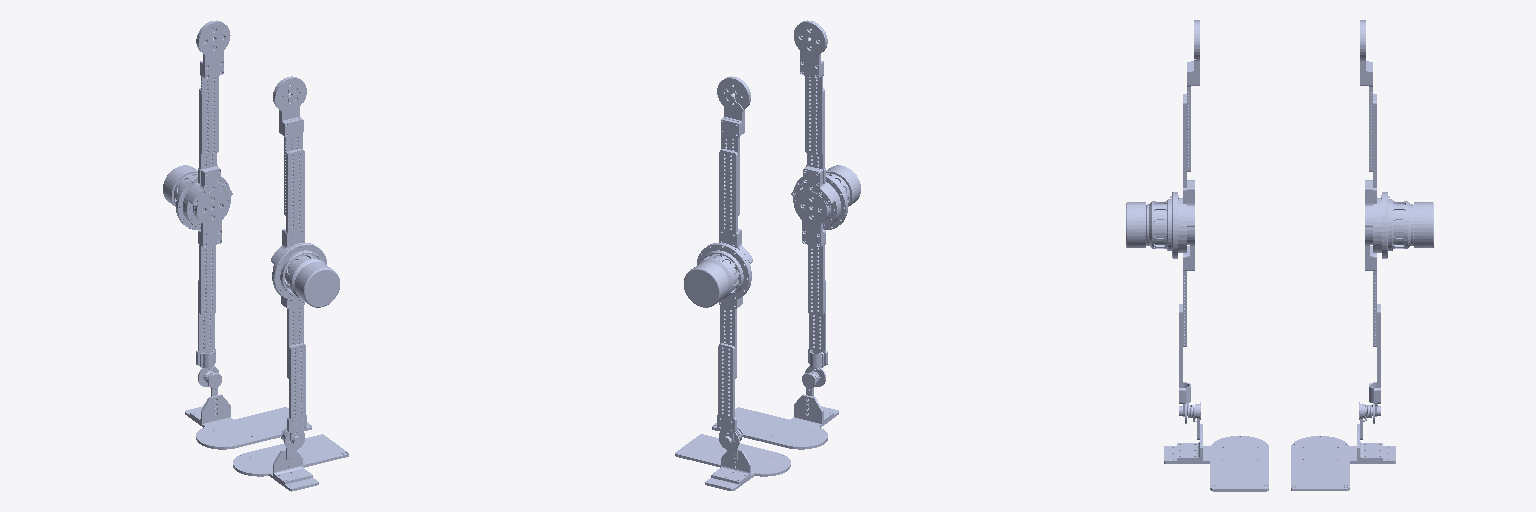
The robot description file, URDF, robot "exo_stand":
<?xml version="1.0" encoding="utf-8"?>
<!-- This URDF was automatically created by SolidWorks to URDF Exporter! Originally created by [author] ([email redacted]) 
     Commit Version: 1.6.0-4-g7f85cfe  Build Version: 1.6.7995.38578
     For more information, please see http://wiki.ros.org/sw_urdf_exporter -->
<robot
  name="exo_stand">

  <link name="world"/>
  <joint name="base_joint" type="fixed">
     <parent link="world"/>
     <child link="base_link"/>
     <origin rpy="0 0 0" xyz="0.0 0.0 0.0"/>
  </joint>

  <link
    name="base_link">
    <inertial>
      <origin
        xyz="0.002599 -8.057E-06 0.36605"
        rpy="0 0 0" />
      <mass
        value="76.873" />
      <inertia
        ixx="11.324"
        ixy="-1.2289E-06"
        ixz="0.7325"
        iyy="5.8291"
        iyz="-3.071E-05"
        izz="8.9868" />
    </inertial>
    <visual>
      <origin
        xyz="0 0 0"
        rpy="0 0 0" />
      <geometry>
        <mesh
          filename="package://exo_stand/meshes/base_link.STL" />
      </geometry>
      <material
        name="">
        <color
          rgba="0.79216 0.81961 0.93333 1" />
      </material>
    </visual>
    <collision>
      <origin
        xyz="0 0 0"
        rpy="0 0 0" />
      <geometry>
        <mesh
          filename="package://exo_stand/meshes/base_link.STL" />
      </geometry>
    </collision>
  </link>
  <link
    name="link1">
    <inertial>
      <origin
        xyz="3.1492E-05 -0.049991 -0.34394"
        rpy="0 0 0" />
      <mass
        value="1.0253" />
      <inertia
        ixx="0.0012561"
        ixy="-1.135E-08"
        ixz="1.7024E-07"
        iyy="0.0017479"
        iyz="-3.2591E-06"
        izz="0.00065826" />
    </inertial>
    <visual>
      <origin
        xyz="0 0 0"
        rpy="0 0 0" />
      <geometry>
        <mesh
          filename="package://exo_stand/meshes/link1.STL" />
      </geometry>
      <material
        name="">
        <color
          rgba="0.79216 0.81961 0.93333 1" />
      </material>
    </visual>
    <collision>
      <origin
        xyz="0 0 0"
        rpy="0 0 0" />
      <geometry>
        <mesh
          filename="package://exo_stand/meshes/link1.STL" />
      </geometry>
    </collision>
  </link>
  <joint
    name="joint1"
    type="revolute">
    <origin
      xyz="0.31209 -0.1705 1.1229"
      rpy="0 0 0" />
    <parent
      link="base_link" />
    <child
      link="link1" />
    <axis
      xyz="0 -1 0" />
    <limit
      lower="-1.57"
      upper="1.57"
      effort="500"
      velocity="300" />
  </joint>
  <link
    name="link2">
    <inertial>
      <origin
        xyz="0.016028 0.034997 -0.34408"
        rpy="0 0 0" />
      <mass
        value="0.45601" />
      <inertia
        ixx="0.00085102"
        ixy="-8.69E-05"
        ixz="2.1456E-08"
        iyy="0.0013424"
        iyz="-8.565E-06"
        izz="0.0012002" />
    </inertial>
    <visual>
      <origin
        xyz="0 0 0"
        rpy="0 0 0" />
      <geometry>
        <mesh
          filename="package://exo_stand/meshes/link2.STL" />
      </geometry>
      <material
        name="">
        <color
          rgba="0.79216 0.81961 0.93333 1" />
      </material>
    </visual>
    <collision>
      <origin
        xyz="0 0 0"
        rpy="0 0 0" />
      <geometry>
        <mesh
          filename="package://exo_stand/meshes/link2.STL" />
      </geometry>
    </collision>
  </link>
  <joint
    name="joint2"
    type="revolute">
    <origin
      xyz="0 -0.0081 -0.398"
      rpy="0 0 0" />
    <parent
      link="link1" />
    <child
      link="link2" />
    <axis
      xyz="0 -1 0" />
    <limit
      lower="-2.355"
      upper="0"
      effort="500"
      velocity="300" />
  </joint>
  <link
    name="link3">
    <inertial>
      <origin
        xyz="-3.1492E-05 0.049991 -0.34394"
        rpy="0 0 0" />
      <mass
        value="1.0253" />
      <inertia
        ixx="0.0012561"
        ixy="-1.135E-08"
        ixz="-1.7024E-07"
        iyy="0.0017479"
        iyz="3.2591E-06"
        izz="0.00065826" />
    </inertial>
    <visual>
      <origin
        xyz="0 0 0"
        rpy="0 0 0" />
      <geometry>
        <mesh
          filename="package://exo_stand/meshes/link3.STL" />
      </geometry>
      <material
        name="">
        <color
          rgba="0.79216 0.81961 0.93333 1" />
      </material>
    </visual>
    <collision>
      <origin
        xyz="0 0 0"
        rpy="0 0 0" />
      <geometry>
        <mesh
          filename="package://exo_stand/meshes/link3.STL" />
      </geometry>
    </collision>
  </link>
  <joint
    name="joint3"
    type="revolute">
    <origin
      xyz="0.31209 0.1705 1.1229"
      rpy="0 0 0" />
    <parent
      link="base_link" />
    <child
      link="link3" />
    <axis
      xyz="0 1 0" />
    <limit
      lower="-1.57"
      upper="1.57"
      effort="500"
      velocity="300" />
  </joint>
  <link
    name="link4">
    <inertial>
      <origin
        xyz="0.016271 -0.035213 -0.34339"
        rpy="0 0 0" />
      <mass
        value="0.45601" />
      <inertia
        ixx="0.0010254"
        ixy="0.00014361"
        ixz="-2.5685E-06"
        iyy="0.0013601"
        iyz="9.0158E-06"
        izz="0.0013922" />
    </inertial>
    <visual>
      <origin
        xyz="0 0 0"
        rpy="0 0 0" />
      <geometry>
        <mesh
          filename="package://exo_stand/meshes/link4.STL" />
      </geometry>
      <material
        name="">
        <color
          rgba="0.79216 0.81961 0.93333 1" />
      </material>
    </visual>
    <collision>
      <origin
        xyz="0 0 0"
        rpy="0 0 0" />
      <geometry>
        <mesh
          filename="package://exo_stand/meshes/link4.STL" />
      </geometry>
    </collision>
  </link>
  <joint
    name="joint4"
    type="revolute">
    <origin
      xyz="0 0.0081 -0.398"
      rpy="0 0 0" />
    <parent
      link="link3" />
    <child
      link="link4" />
    <axis
      xyz="0 1 0" />
    <limit
      lower="0"
      upper="2.355"
      effort="500"
      velocity="300" />
  </joint>

  <link name="link5"/>
  <joint name="joint5" type="fixed">
    <origin xyz="0 0 -0.4" rpy="0 0 0" />
    <parent link="link2" />
    <child link="link5" />
  </joint>

  <link name="link6"/>
  <joint name="joint6" type="fixed">
    <origin xyz="0 0 -0.4" rpy="0 0 0" />
    <parent link="link4" />
    <child link="link6" />
  </joint>

  
  <transmission name="link_1_trans">
    <type>transmission_interface/SimpleTransmission</type>
    <joint name="joint1">     
        <hardwareInterface>hardware_interface/PositionJointInterface</hardwareInterface>
    </joint>	
    <actuator name="link_1_motor">
        <hardwareInterface>hardware_interface/PositionJointInterface</hardwareInterface>
        <mechanicalReduction>1</mechanicalReduction>
    </actuator>
  </transmission>
  <transmission name="link_2_trans">
    <type>transmission_interface/SimpleTransmission</type>
    <joint name="joint2">     
        <hardwareInterface>hardware_interface/PositionJointInterface</hardwareInterface>
    </joint>	
    <actuator name="link_2_motor">
        <hardwareInterface>hardware_interface/PositionJointInterface</hardwareInterface>
        <mechanicalReduction>1</mechanicalReduction>
    </actuator>
  </transmission>
  <transmission name="link_3_trans">
    <type>transmission_interface/SimpleTransmission</type>
    <joint name="joint3">     
        <hardwareInterface>hardware_interface/PositionJointInterface</hardwareInterface>
    </joint>
    <actuator name="link_3_motor">
        <hardwareInterface>hardware_interface/PositionJointInterface</hardwareInterface>
        <mechanicalReduction>1</mechanicalReduction>
    </actuator>
  </transmission>
  <transmission name="link_4_trans">
    <type>transmission_interface/SimpleTransmission</type>
    <joint name="joint4">     
        <hardwareInterface>hardware_interface/PositionJointInterface</hardwareInterface>
    </joint>	
    <actuator name="link_4_motor">
        <hardwareInterface>hardware_interface/PositionJointInterface</hardwareInterface>
        <mechanicalReduction>1</mechanicalReduction>
    </actuator>
  </transmission>
 


  <gazebo>
    <plugin name="control" filename="libgazebo_ros_control.so">
          <robotNamespace>/</robotNamespace>
    </plugin>
  </gazebo>



  <gazebo reference="link1">
    <selfCollide>true</selfCollide>
  </gazebo>
  <gazebo reference="link2">
    <selfCollide>true</selfCollide>
  </gazebo>
  <gazebo reference="link3">
    <selfCollide>true</selfCollide>
  </gazebo>
  <gazebo reference="link4">
    <selfCollide>true</selfCollide>
  </gazebo>  


</robot>

--- What the picture shows (computed from the rendered views, not written in the file) ---
3 views of the same robot in one strip: view 1: azimuth 30°, elevation 25°; view 2: azimuth 150°, elevation 25°; view 3: azimuth 270°, elevation 25° (orthographic).
Robot: exo_stand — 8 links, 7 joints (4 revolute, 3 fixed); root link world; default pose: every joint at zero.
Links seen in each view (by area): view 1: link4, link1, link2, link3; view 2: link2, link3, link4, link1; view 3: link2, link4, link1, link3.
Boxes of the visible links, box(x1,y1,x2,y2) form: link4: box(185, 191, 311, 449); link1: box(271, 76, 339, 307); link2: box(233, 296, 348, 491); link3: box(163, 20, 232, 229); link2: box(712, 191, 838, 449); link3: box(684, 76, 752, 307); link4: box(675, 296, 790, 490); link1: box(791, 20, 860, 229); link2: box(1164, 227, 1268, 491); link4: box(1291, 227, 1395, 490); link1: box(1126, 20, 1199, 258); link3: box(1360, 20, 1433, 258).
Bounding box of the posed robot: 0.2451 × 0.6016 × 0.9346 m (x, y, z).
Meshes: 5 distinct files referenced, 4 mesh visuals loaded (4 binary STL); not drawn: 1 (reference not matched to a file when rendering).